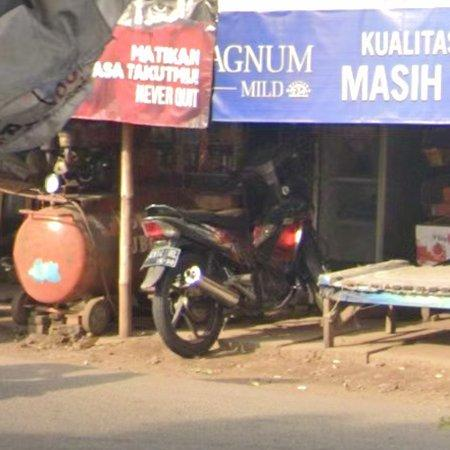motorcycles: (141, 156, 322, 358)
